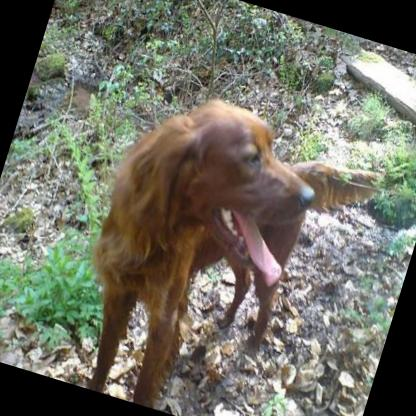Irish_setter: (44, 69, 389, 416)
